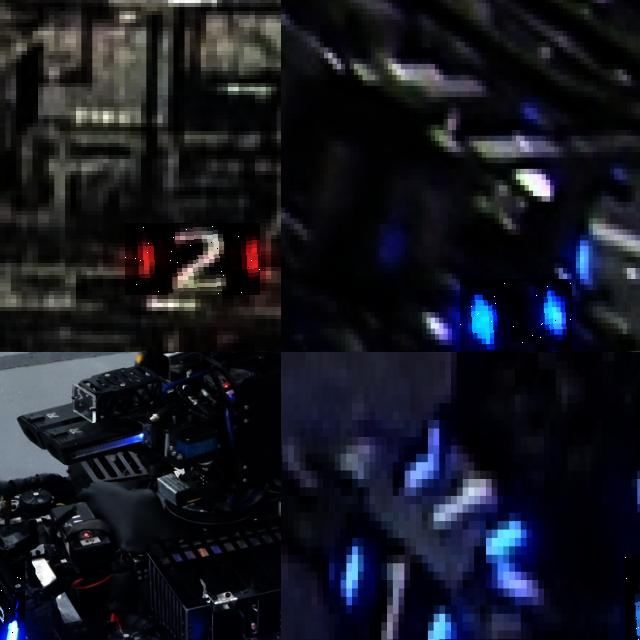B1: (398, 446, 532, 564), (340, 529, 456, 640)
B2: (460, 279, 571, 352)
Bs: (0, 550, 24, 640)
R2: (125, 223, 260, 295)
